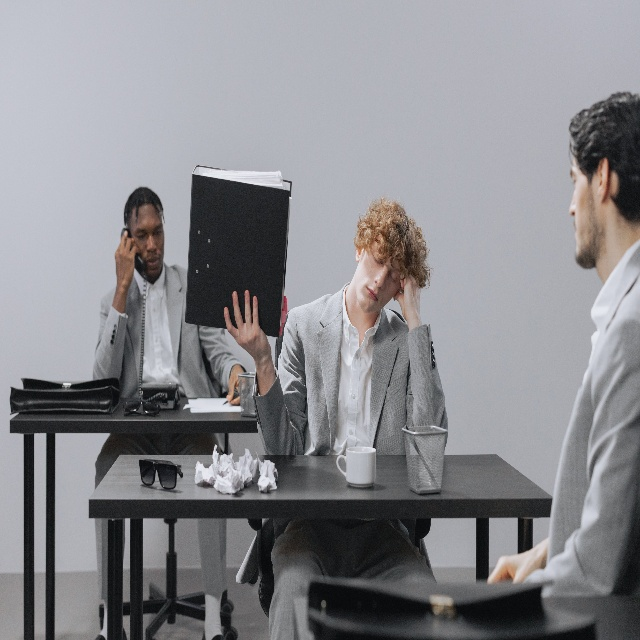Gafas: (139, 458, 183, 490), (123, 400, 161, 416)
Sin_guantes: (224, 289, 273, 362), (487, 546, 541, 590), (114, 229, 142, 289), (393, 275, 421, 322), (226, 365, 245, 406)
